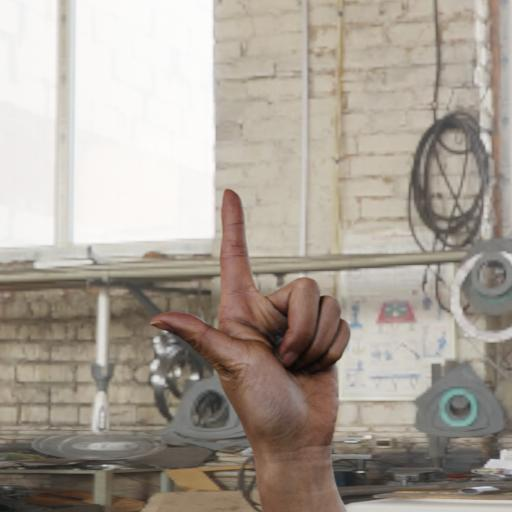L: (137, 184, 374, 482)
